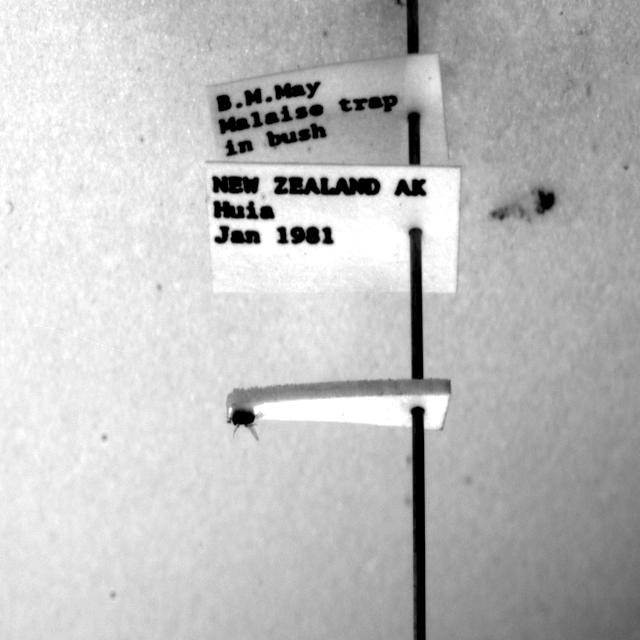typed_label: (206, 163, 460, 292), (208, 52, 449, 165)
